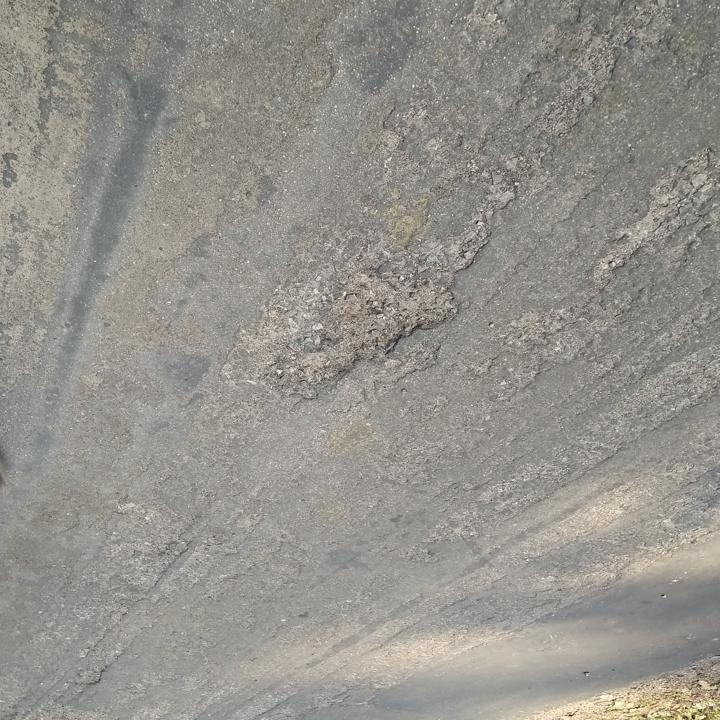pothole: (290, 265, 466, 388)
